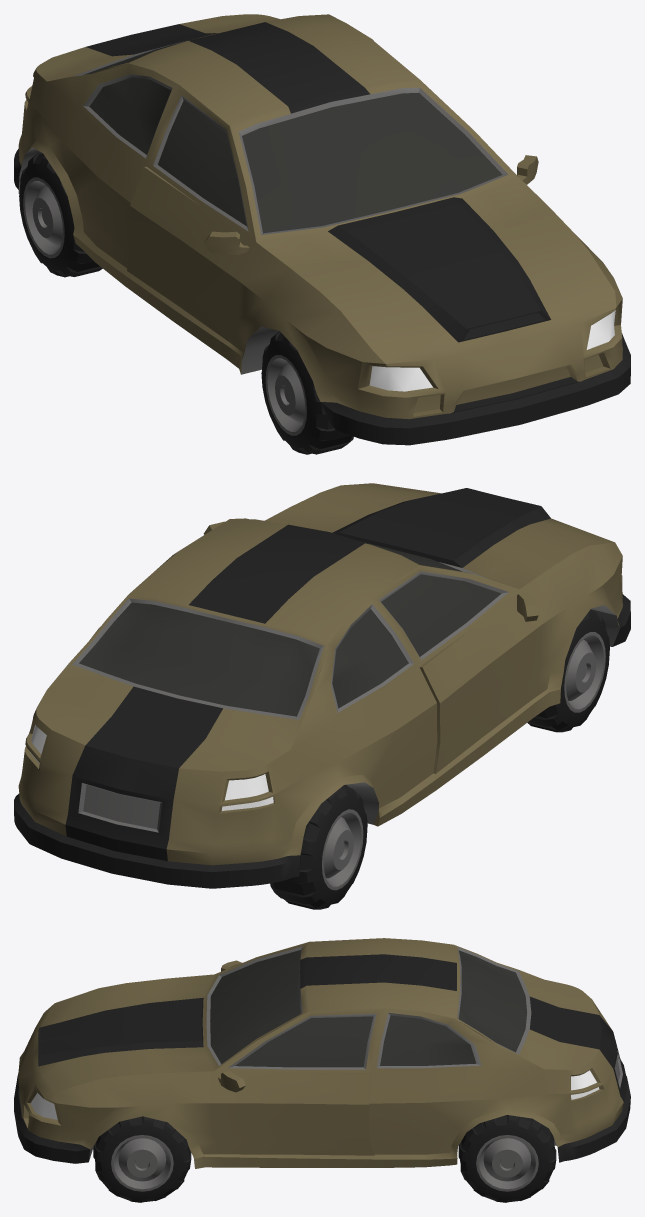
Rendered from vehicle-sports.glb.
3 renders of one model, top to bottom at view 1: azimuth 30°, elevation 25°; view 2: azimuth 150°, elevation 25°; view 3: azimuth 270°, elevation 25°, orthographic. The views are drawn at different scales.
Visible parts, largest first — view 1: Sports, FrontWheel_R, BackWheels; view 2: Sports, BackWheels, FrontWheel_R; view 3: Sports, BackWheels, FrontWheel_L.
Part boxes in pixels (x1,y1,x2,y2): Sports: (14, 14, 630, 445); FrontWheel_R: (261, 331, 353, 454); BackWheels: (19, 152, 102, 277); Sports: (14, 483, 630, 888); BackWheels: (270, 784, 367, 909); FrontWheel_R: (527, 609, 609, 732); Sports: (14, 938, 630, 1168); BackWheels: (458, 1115, 556, 1202); FrontWheel_L: (93, 1116, 191, 1202).
Size of the model in its own units: 2.67 by 1.86 by 5.66.
